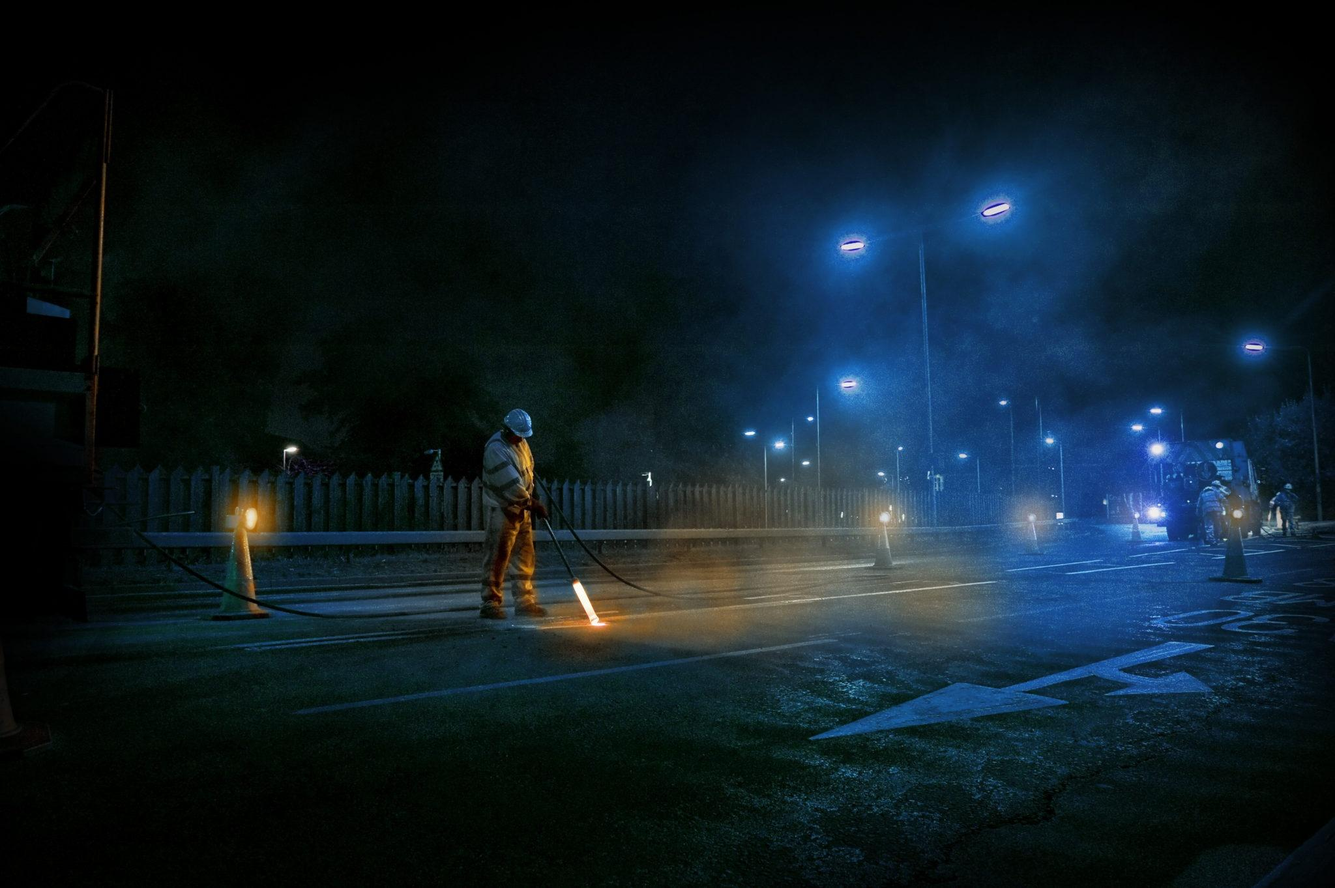Helmet: (502, 408, 534, 438)
Vest: (485, 440, 535, 514)
